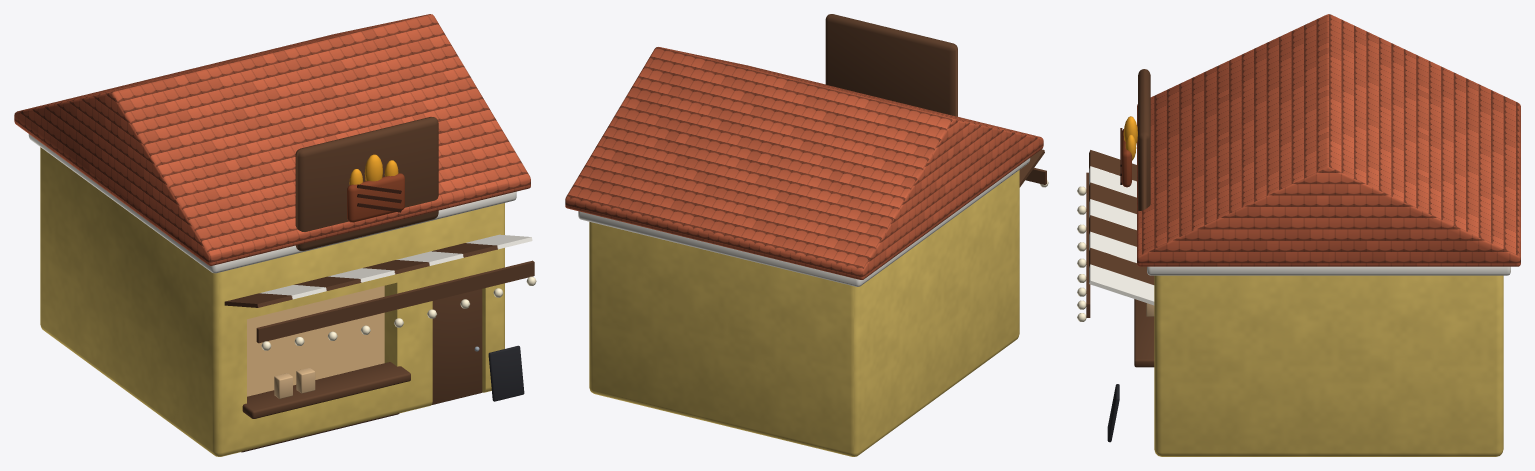
The model's file is restaurant_grill.gltf.
3 renders of one model, left to right at view 1: azimuth 30°, elevation 25°; view 2: azimuth 150°, elevation 25°; view 3: azimuth 270°, elevation 25°, orthographic. The views are drawn at different scales.
Parts seen in each view (by area): view 1: restaurant_grill_mesh, INT_door_restaurant_grill, restaurant_grill_sign, INT_counter_grill; view 2: restaurant_grill_mesh; view 3: restaurant_grill_mesh, restaurant_grill_sign, INT_counter_grill.
Boxes of the visible parts, x1=… form: restaurant_grill_mesh: x1=14, y1=14, x2=534, y2=456; INT_door_restaurant_grill: x1=432, y1=289, x2=482, y2=404; restaurant_grill_sign: x1=261, y1=154, x2=536, y2=350; INT_counter_grill: x1=242, y1=362, x2=410, y2=418; restaurant_grill_mesh: x1=565, y1=14, x2=1046, y2=456; restaurant_grill_mesh: x1=1086, y1=14, x2=1520, y2=456; restaurant_grill_sign: x1=1077, y1=116, x2=1137, y2=321; INT_counter_grill: x1=1134, y1=299, x2=1154, y2=367.
Size of what is drawn, in the model's own units: 7.3 by 6.64 by 8.9.
15 materials, 2 textured.
